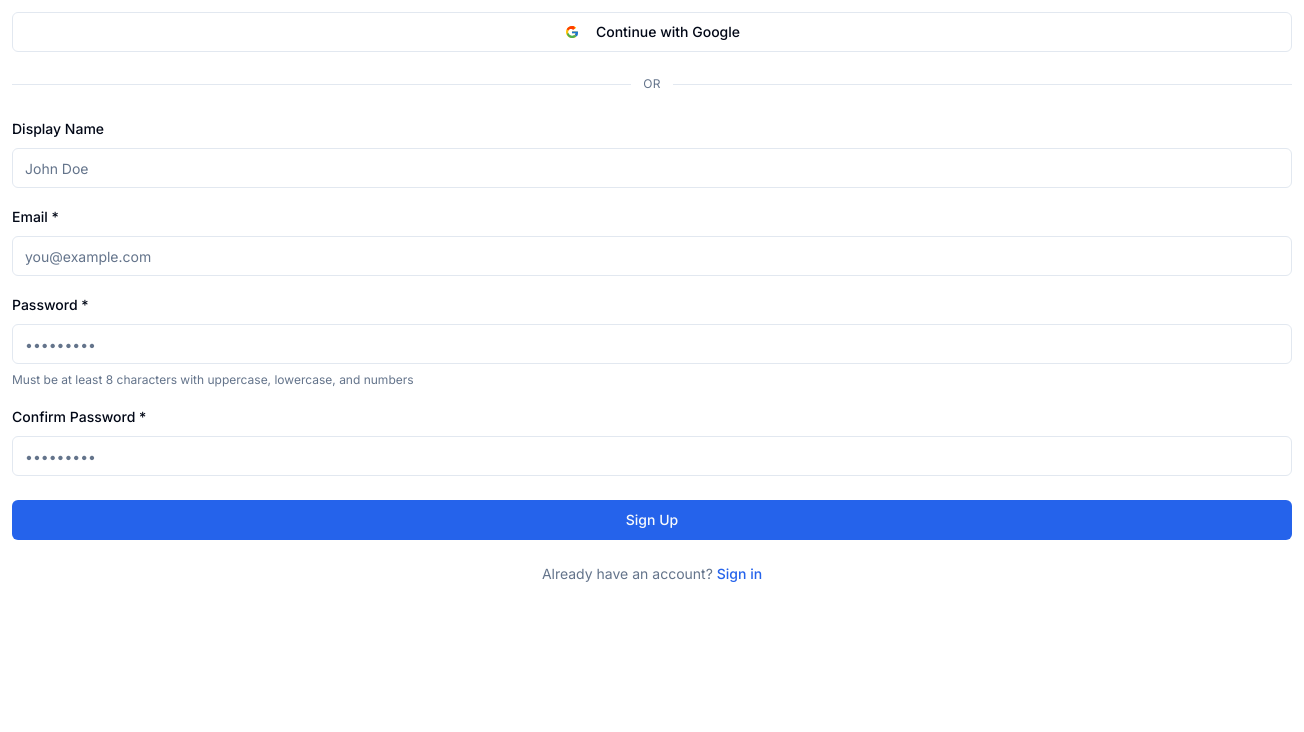
SignUpForm › shows validation error when passwords do not match
This screenshot has width=1304, height=732.
Step 1. Type "Password123" into the password field labelled "Password *" → [652, 344], box x1=12 y1=324 x2=1292 y2=364
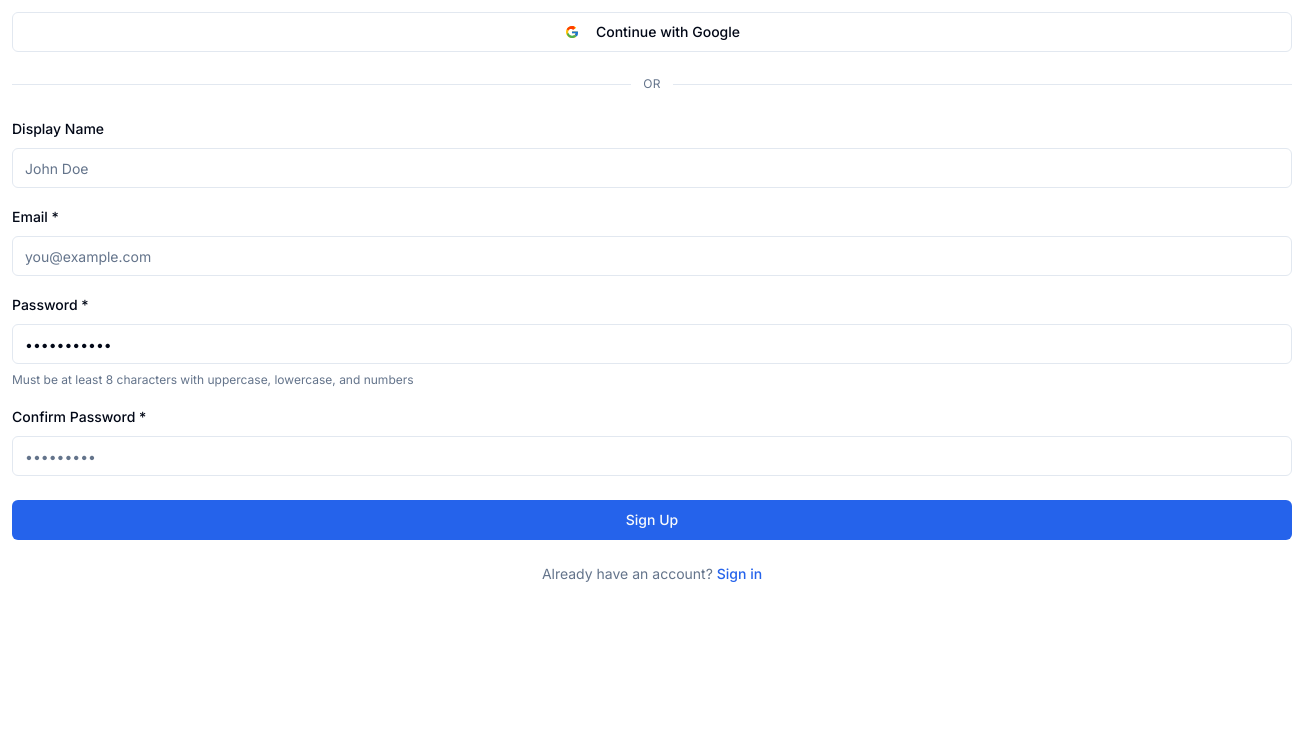
Step 2. Type "Different123" into the password field labelled "Confirm Password *" → [652, 456], box x1=12 y1=436 x2=1292 y2=476
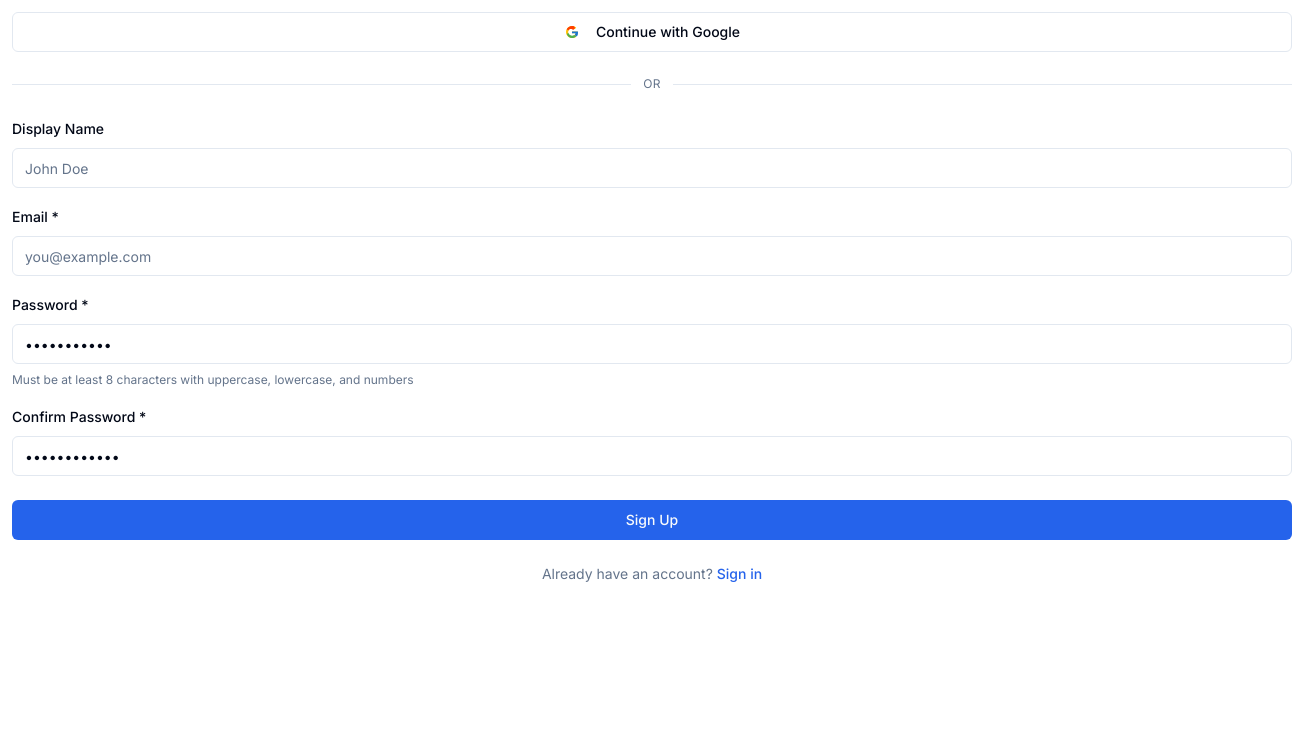
Step 3. Click the button "Sign Up" → [652, 520], box x1=12 y1=500 x2=1292 y2=540
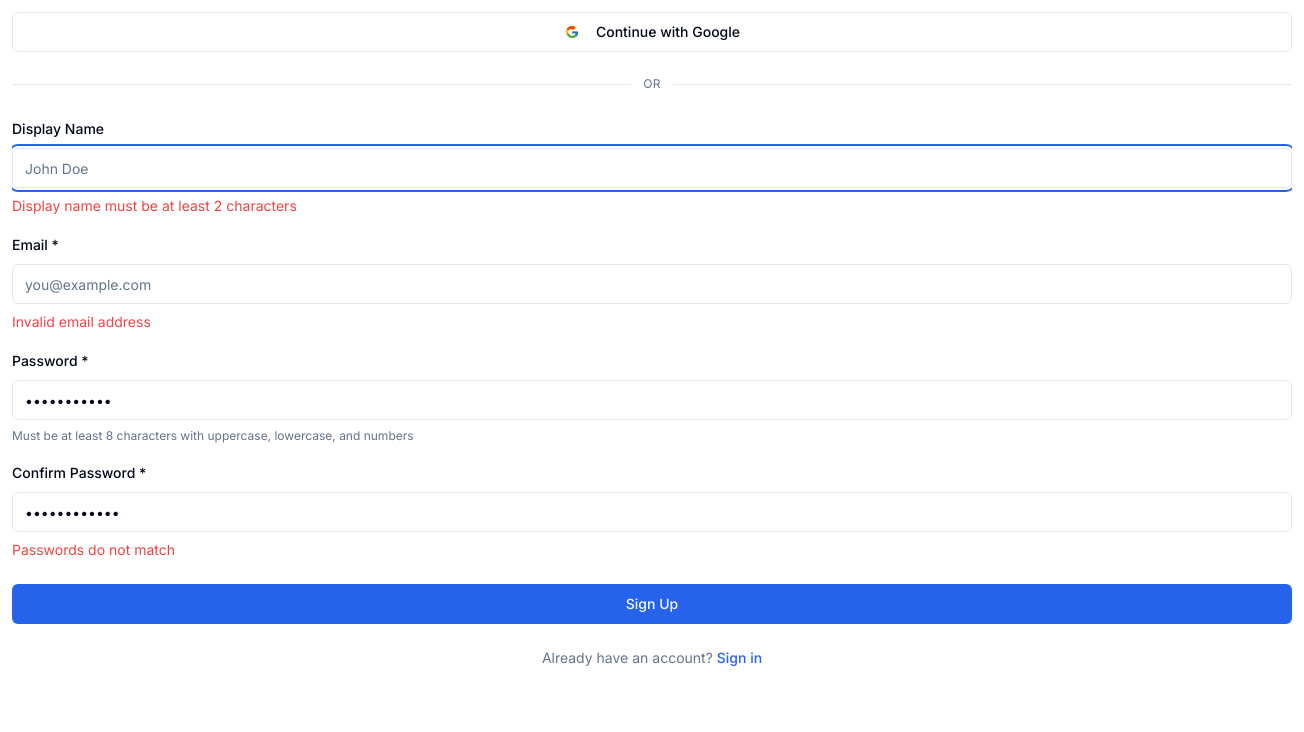
Expected: the text "Passwords do not match" is shown, x1=12 y1=541 x2=175 y2=558
